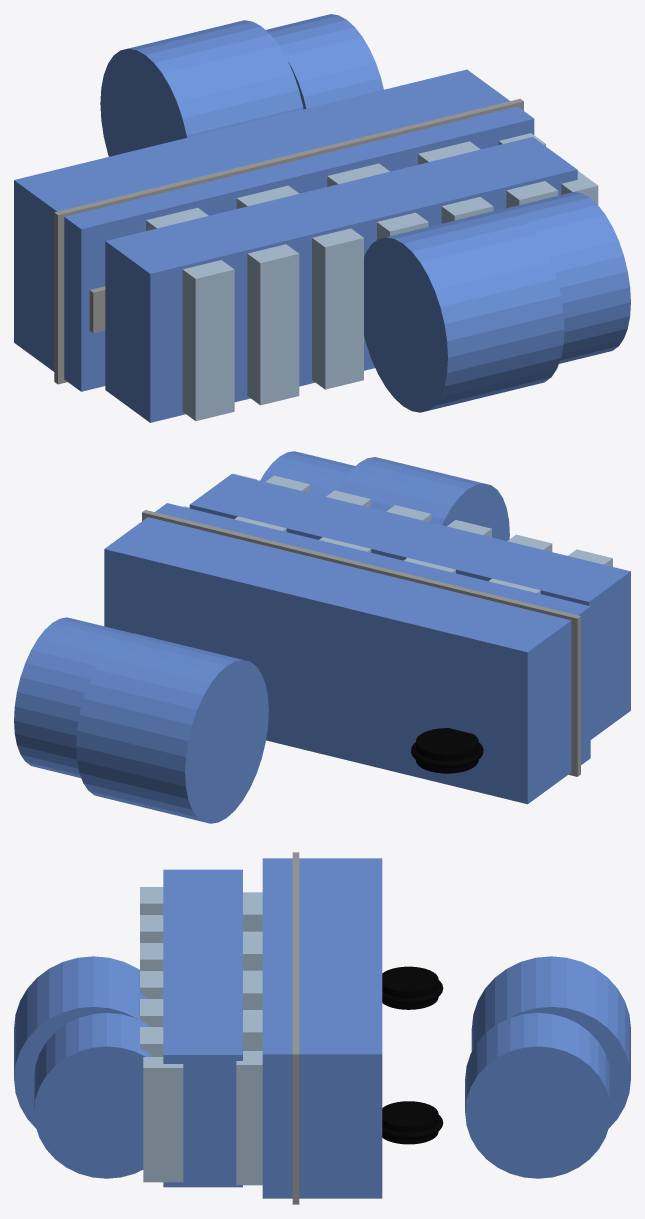
Rendered from double_decker.glb.
3 renders of one model, top to bottom at view 1: azimuth 30°, elevation 25°; view 2: azimuth 150°, elevation 25°; view 3: azimuth 270°, elevation 25°, orthographic. The views are drawn at different scales.
Visible parts, largest first — view 1: geometry_0, geometry_1, geometry_3, geometry_5; view 2: geometry_0, geometry_3, geometry_1, geometry_2; view 3: geometry_0, geometry_1, geometry_2, geometry_3.
Part boxes in pixels (bbox=[...]): geometry_0: bbox=[14, 14, 630, 422]; geometry_1: bbox=[146, 133, 598, 420]; geometry_3: bbox=[54, 98, 523, 384]; geometry_5: bbox=[89, 286, 105, 333]; geometry_0: bbox=[14, 451, 630, 823]; geometry_3: bbox=[142, 510, 580, 776]; geometry_1: bbox=[183, 473, 612, 593]; geometry_2: bbox=[411, 728, 483, 773]; geometry_0: bbox=[14, 858, 630, 1198]; geometry_1: bbox=[140, 887, 262, 1185]; geometry_2: bbox=[382, 966, 443, 1144]; geometry_3: bbox=[292, 852, 299, 1204].
Size of the model in its own units: 7.2 by 2.5 by 9.3.
